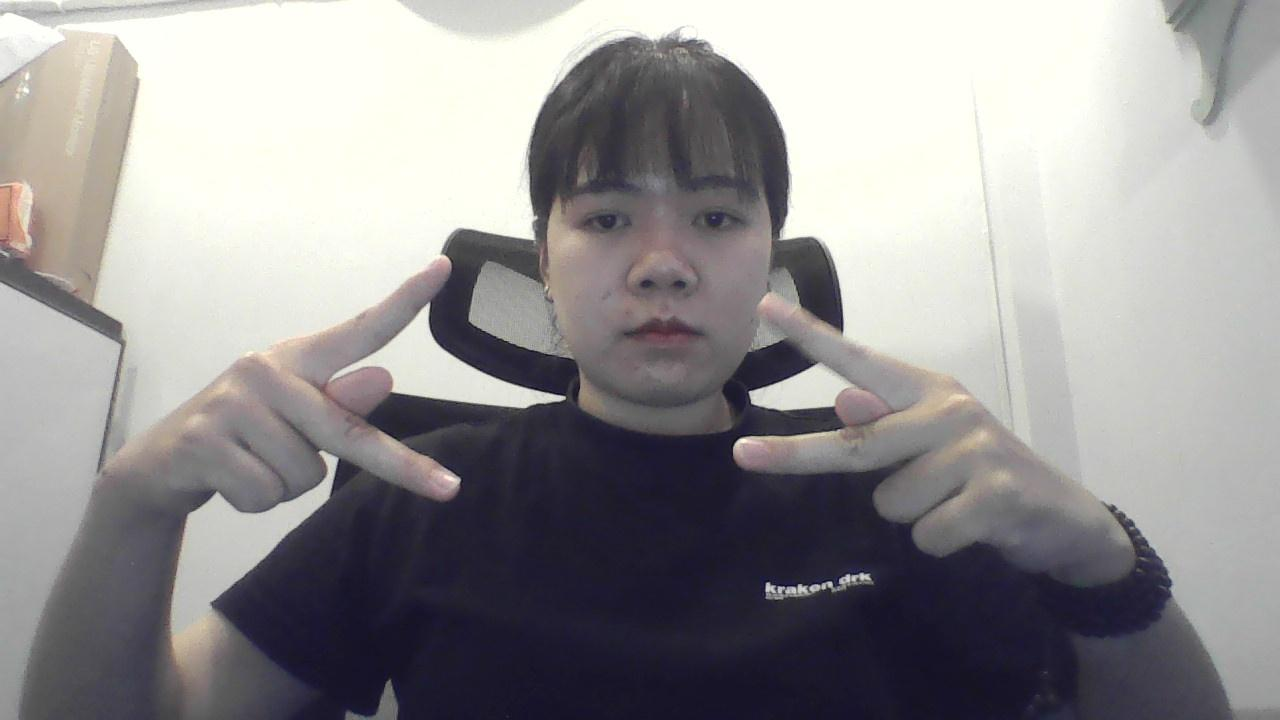P: (716, 280, 1086, 569), (117, 250, 462, 530)
